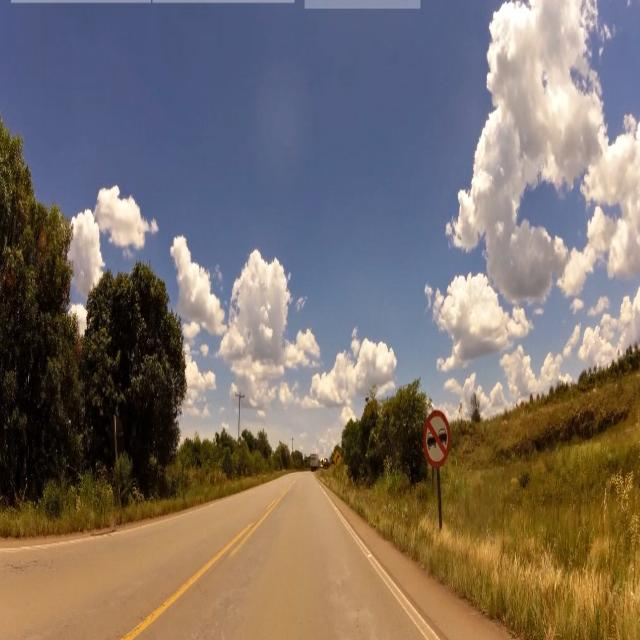R-7: (420, 408, 454, 467)
